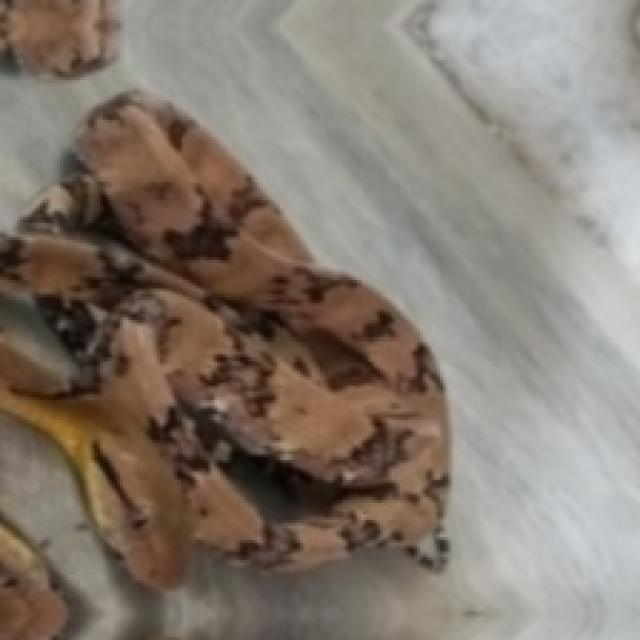dog-toothed cat snake: (0, 91, 446, 600), (0, 520, 63, 637)
